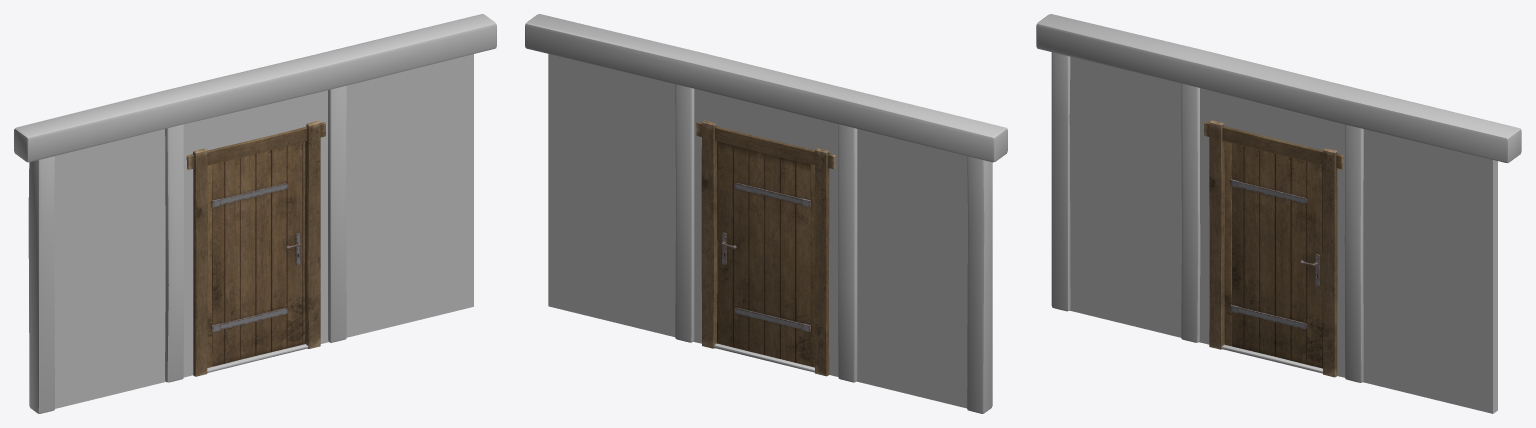
Rendered from SM_WallElement_05.FBX.
The picture shows the model from 3 angles, left to right: view 1: azimuth 30°, elevation 25°; view 2: azimuth 150°, elevation 25°; view 3: azimuth 330°, elevation 25°; orthographic projection.
Parts seen in each view (by area): view 1: SM_WallElement_05, SM_Door_01; view 2: SM_WallElement_05, SM_Door_01; view 3: SM_WallElement_05, SM_Door_01.
Boxes of the visible parts, bbox=[...] form: SM_WallElement_05: bbox=[14, 14, 496, 413]; SM_Door_01: bbox=[211, 141, 305, 366]; SM_WallElement_05: bbox=[525, 14, 1007, 413]; SM_Door_01: bbox=[717, 141, 810, 366]; SM_WallElement_05: bbox=[1036, 14, 1521, 413]; SM_Door_01: bbox=[1230, 143, 1322, 368].
Bounding box in the file's own units: 5.47 × 3.16 × 0.3119.
